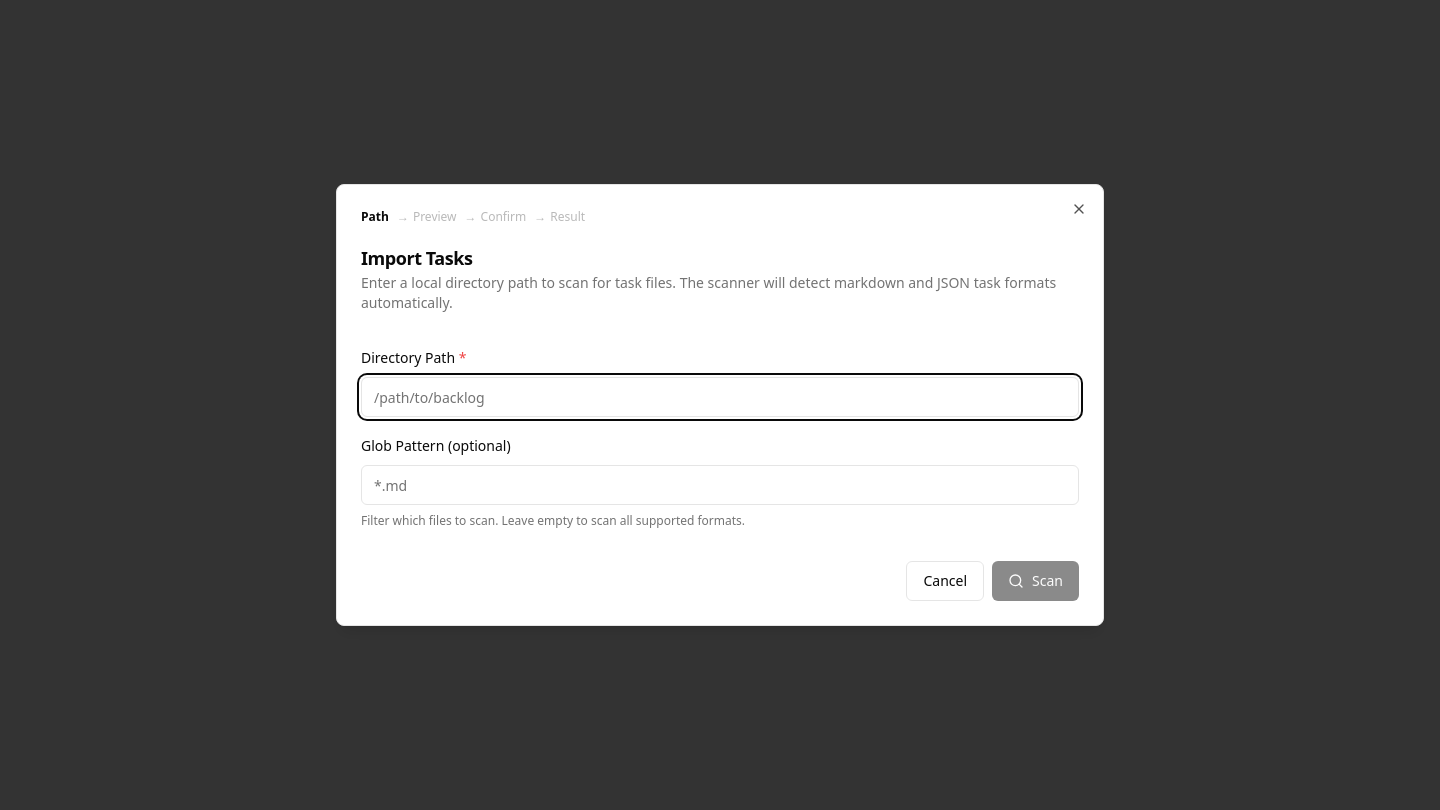
Scenario: ImportTasksDialog › Step 1 — Path Input › transitions to step 2 on successful scan
Type "/home/user/project" into the field with test id "import-path-input" at [720, 397], box [361, 377, 1079, 417]
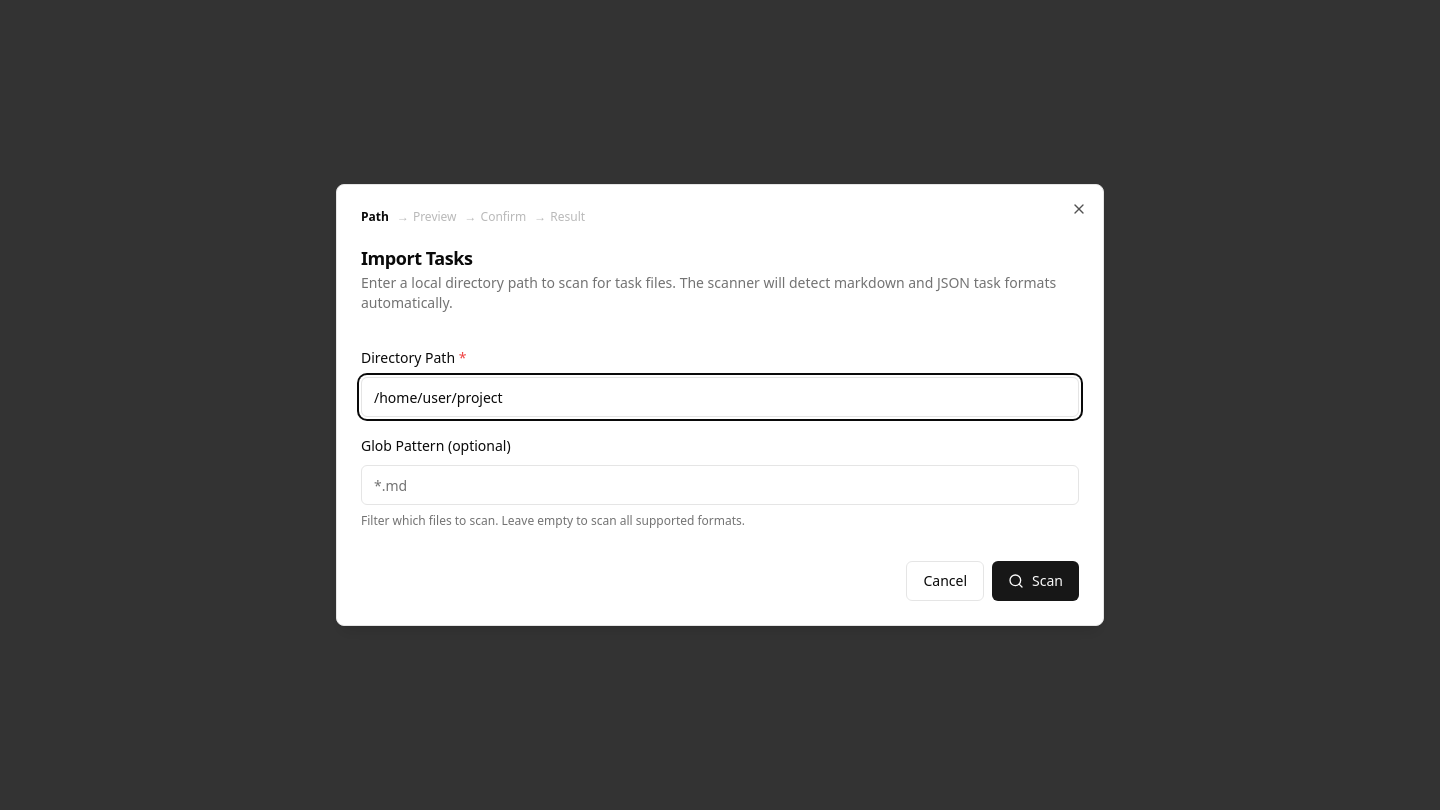
Click the button with test id "import-scan-btn" at [1036, 581], box [992, 561, 1079, 601]
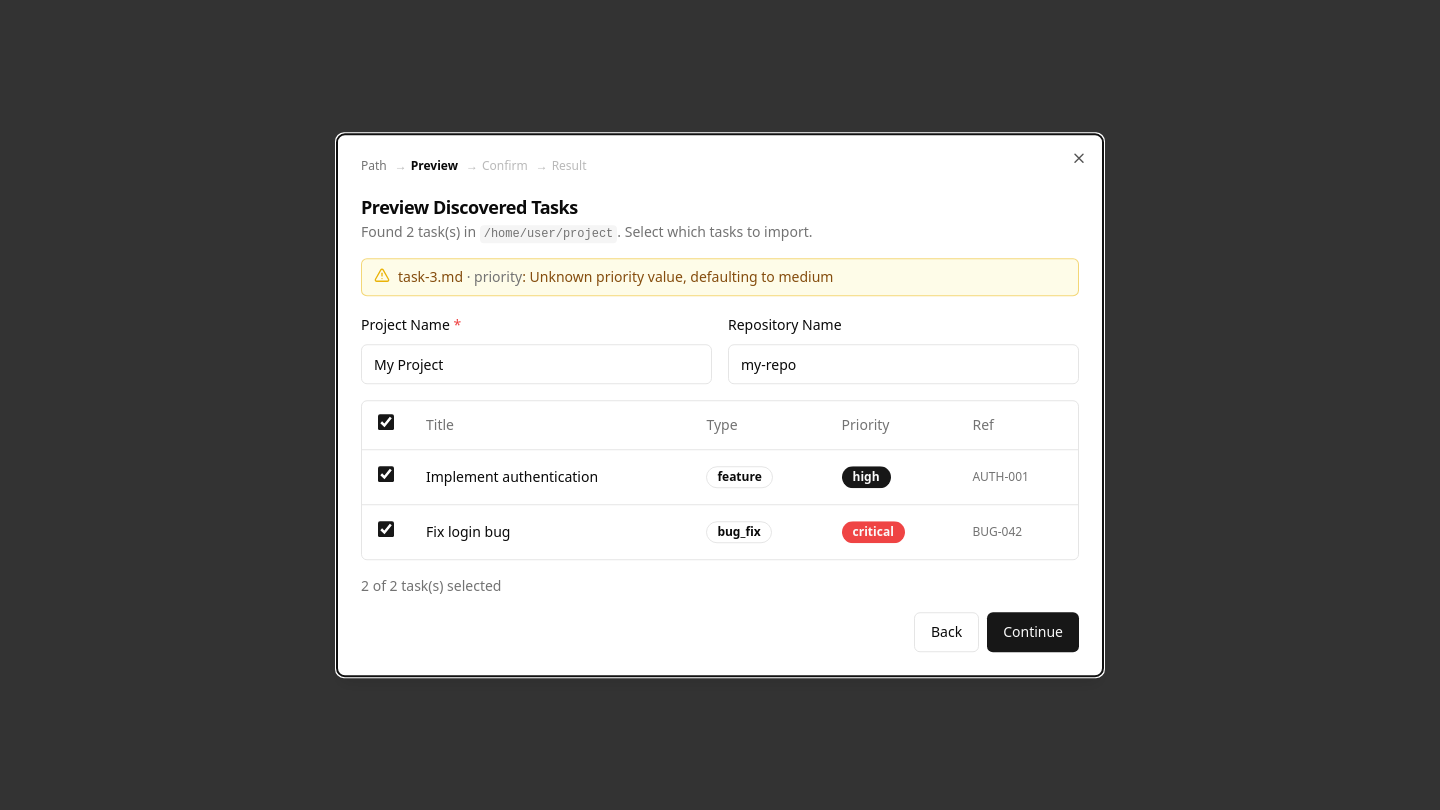
expect the heading "Preview Discovered Tasks" is shown: met, box [361, 195, 578, 219]
